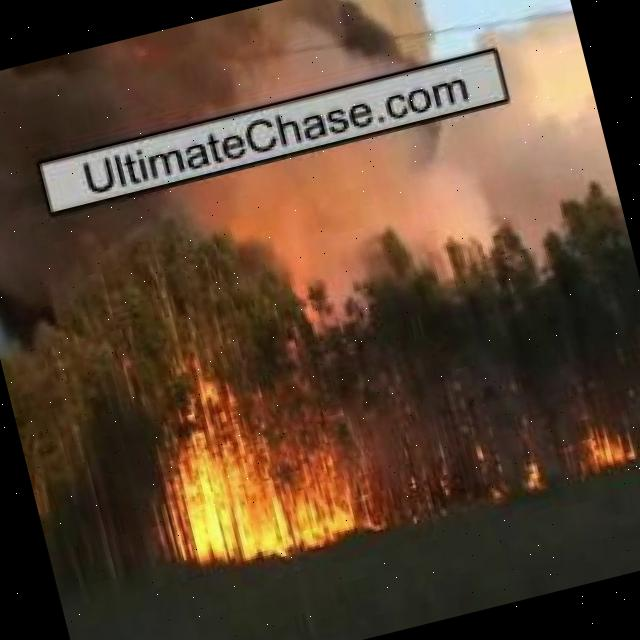fire: (136, 363, 374, 579), (475, 442, 550, 499), (581, 419, 640, 475)
